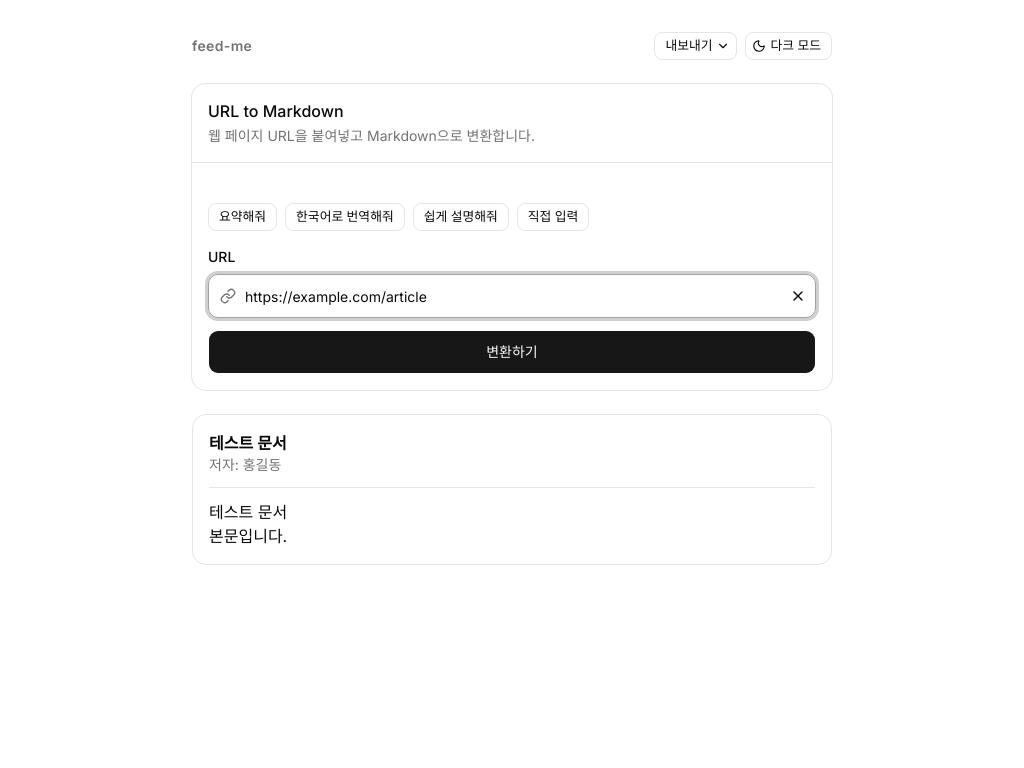
Test case: UrlToMarkdownPage conversion flow › copies raw markdown and shows success feedback
Click the button "내보내기" at (696, 46), box x1=654 y1=32 x2=738 y2=60
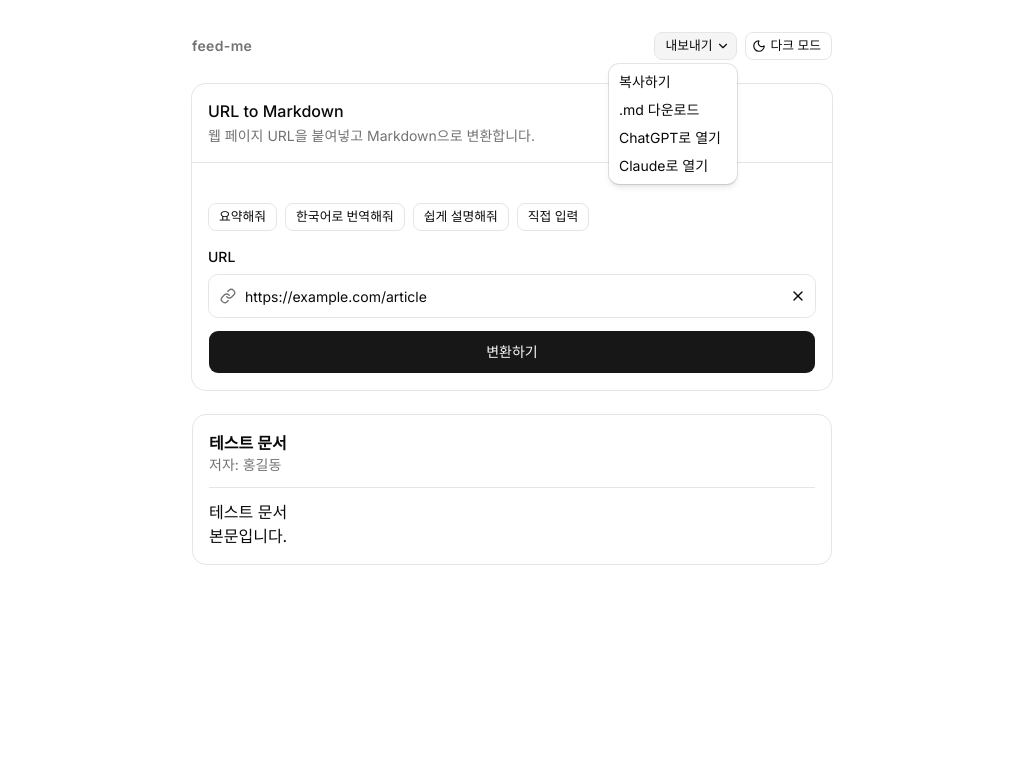
Click the menu item "복사하기" at (645, 82), box x1=619 y1=73 x2=670 y2=90
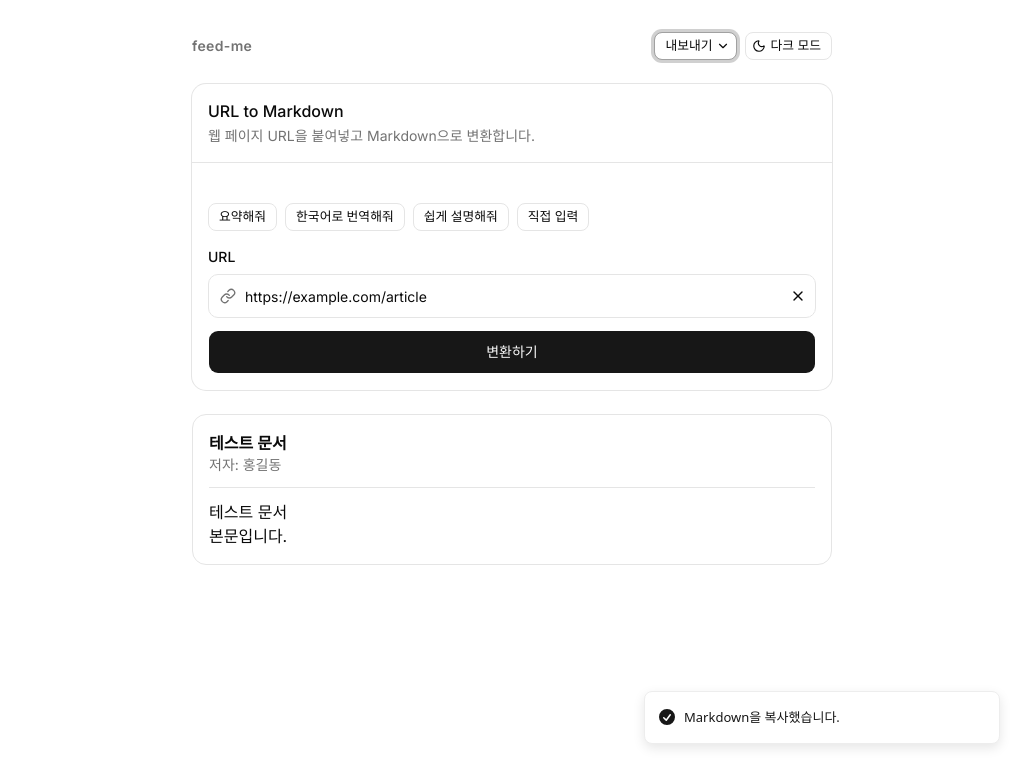
expect the text "Markdown을 복사했습니다." is shown: met, box x1=684 y1=708 x2=840 y2=727
